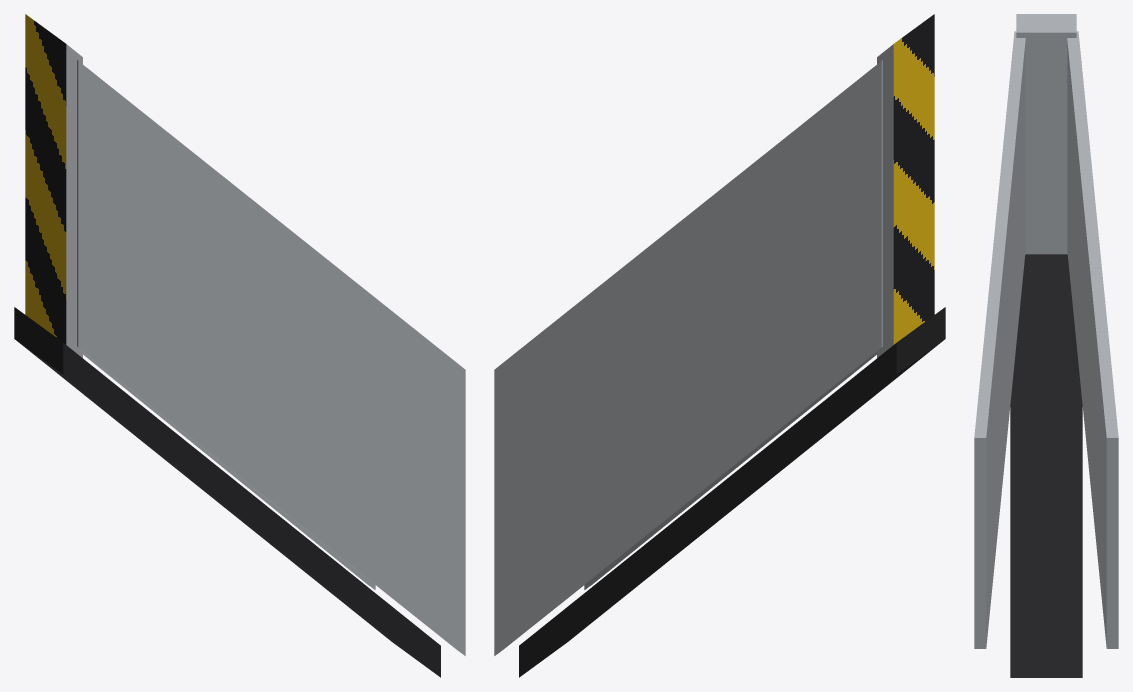
The model's file is crash_cushion_nose_core_down.obj.
The picture shows the model from 3 angles, left to right: view 1: azimuth 30°, elevation 25°; view 2: azimuth 150°, elevation 25°; view 3: azimuth 270°, elevation 25°; orthographic projection. The views are drawn at different scales.
Visible parts, largest first — view 1: crash_cushion_nose_core_down; view 2: crash_cushion_nose_core_down; view 3: crash_cushion_nose_core_down.
Part boxes in pixels (<box>): crash_cushion_nose_core_down: <box>14,14,465,677</box>; crash_cushion_nose_core_down: <box>494,14,945,677</box>; crash_cushion_nose_core_down: <box>974,14,1118,677</box>.
Bounding box in the file's own units: 1 × 1.82 × 0.45.
